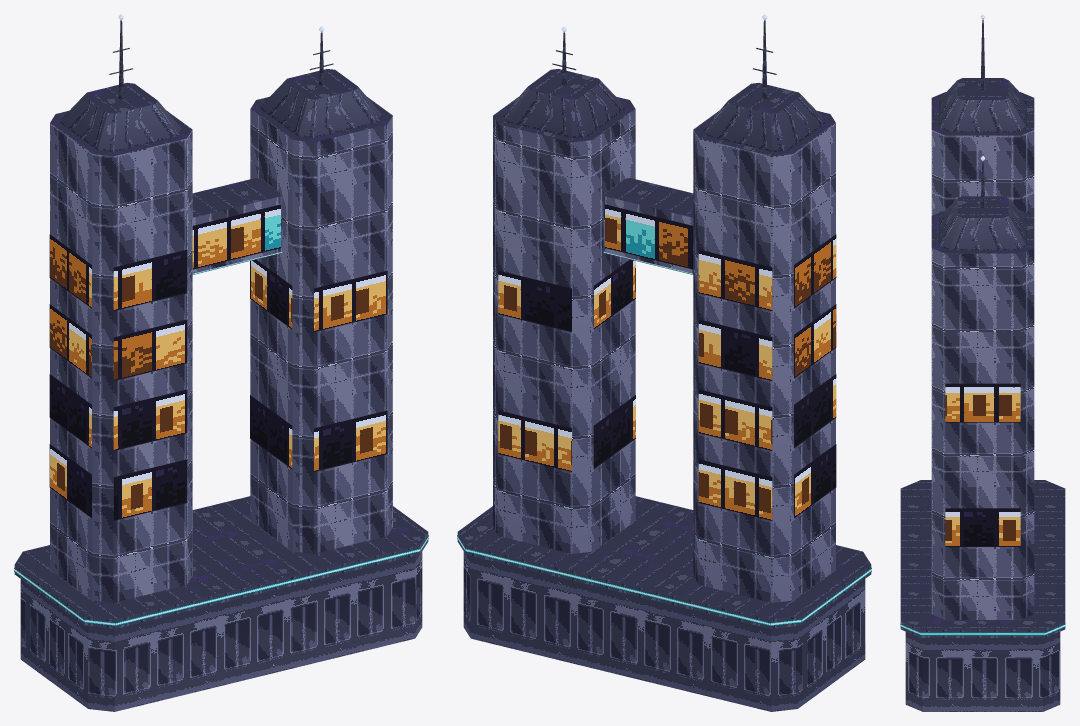
File: cytower.twin.glb
The picture shows the model from 3 angles, left to right: view 1: azimuth 30°, elevation 25°; view 2: azimuth 150°, elevation 25°; view 3: azimuth 270°, elevation 25°; orthographic projection. The views are drawn at different scales.
Visible parts, largest first — view 1: kit_towers, kit_card_windows, kit_crown; view 2: kit_towers, kit_card_windows, kit_crown; view 3: kit_towers, kit_card_windows, kit_crown.
Part boxes in pixels (bbox=[...]): kit_towers: bbox=[14, 69, 428, 711]; kit_card_windows: bbox=[14, 204, 428, 626]; kit_crown: bbox=[109, 14, 333, 274]; kit_towers: bbox=[457, 69, 871, 711]; kit_card_windows: bbox=[457, 204, 871, 626]; kit_crown: bbox=[552, 14, 776, 274]; kit_towers: bbox=[900, 78, 1065, 711]; kit_card_windows: bbox=[900, 383, 1065, 635]; kit_crown: bbox=[980, 14, 985, 207].
Bounding box in the file's own units: 20.65 × 37.42 × 9.65.
8 materials, 8 textured.
